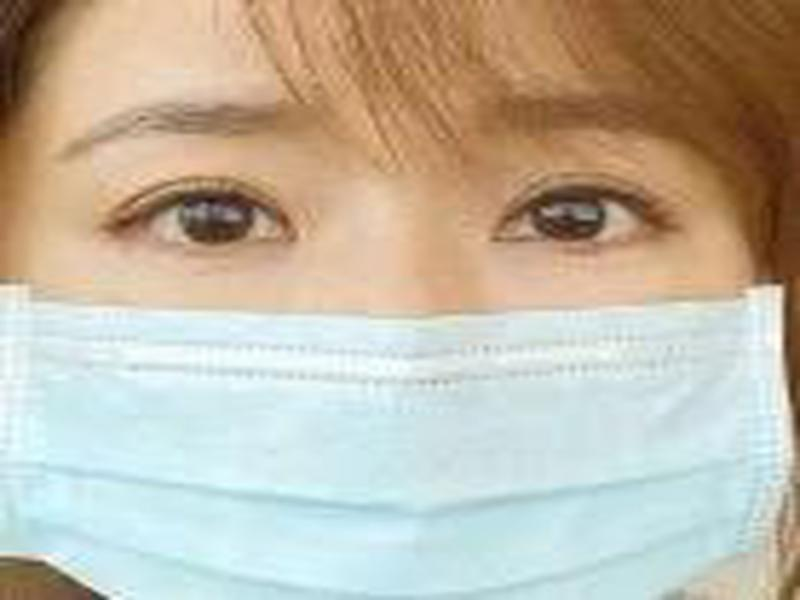with_mask: (1, 1, 791, 599)
